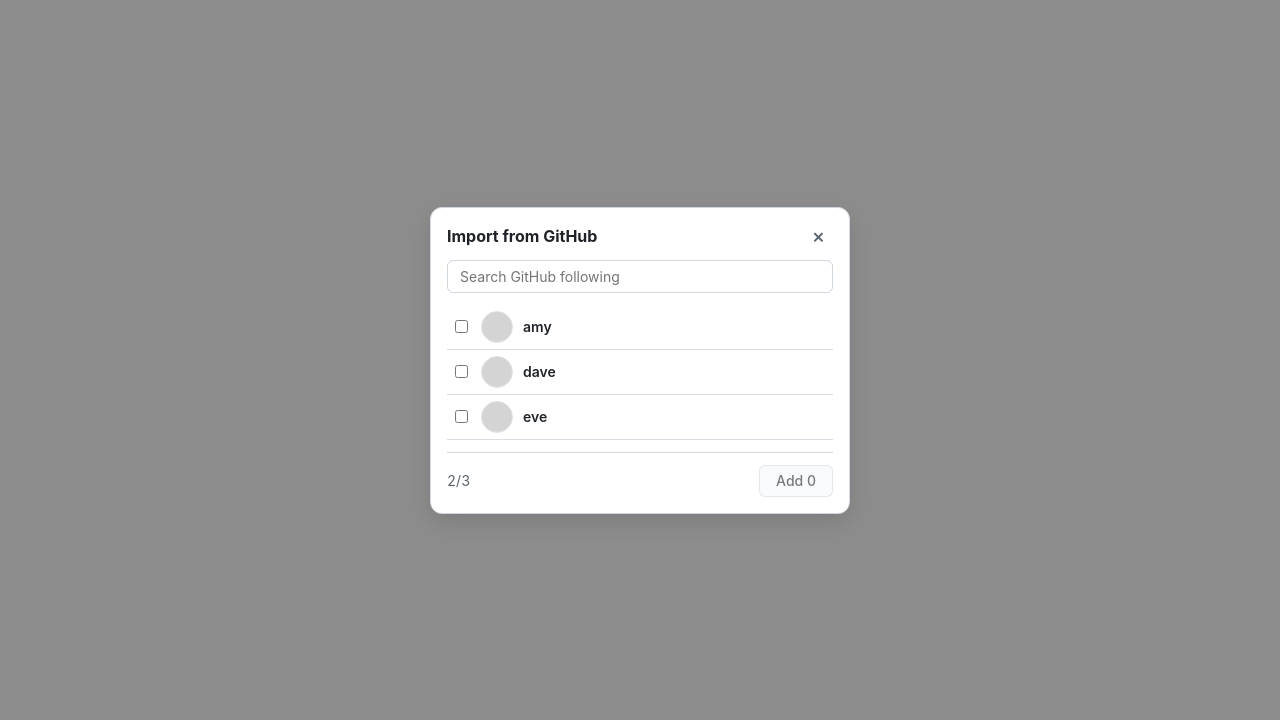
it: ImportFollowingModal › blocks selecting past the remaining slots
Click the checkbox labelled "amy" at (462, 326), box x1=455 y1=320 x2=468 y2=333
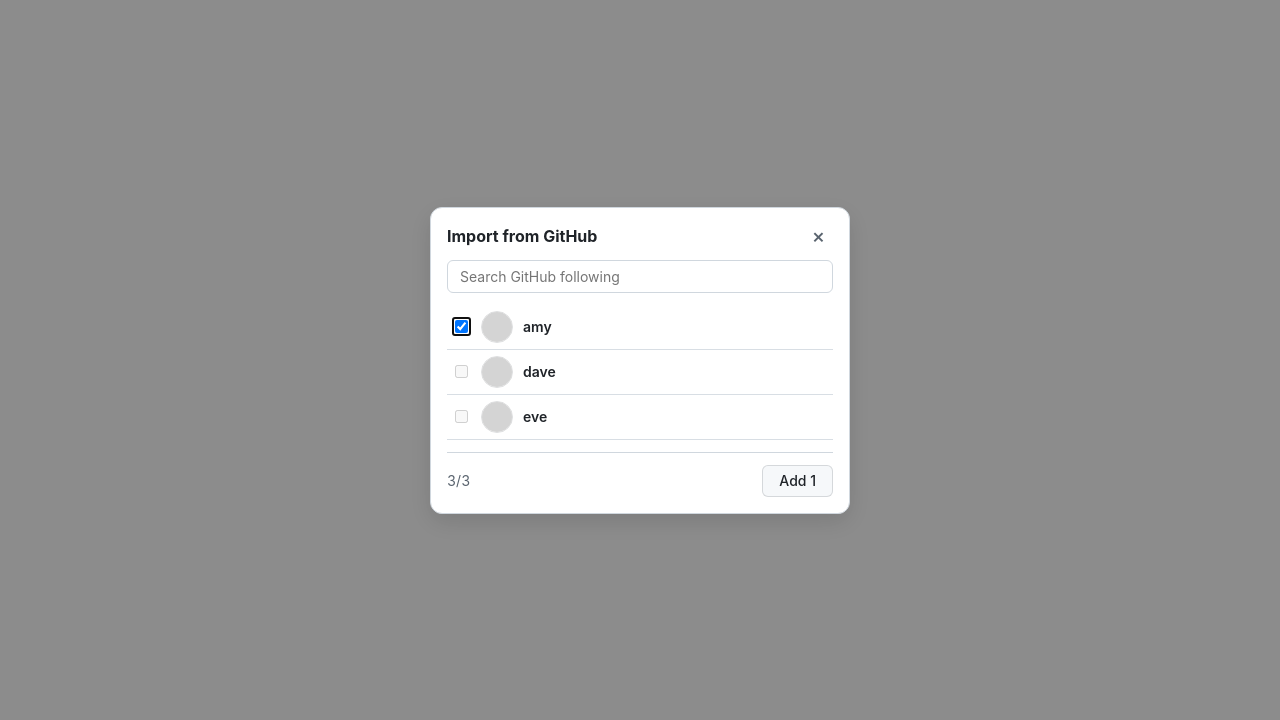
Now the checkbox labelled "dave" is disabled, box x1=455 y1=365 x2=468 y2=378
Now the checkbox labelled "eve" is disabled, box x1=455 y1=410 x2=468 y2=423
